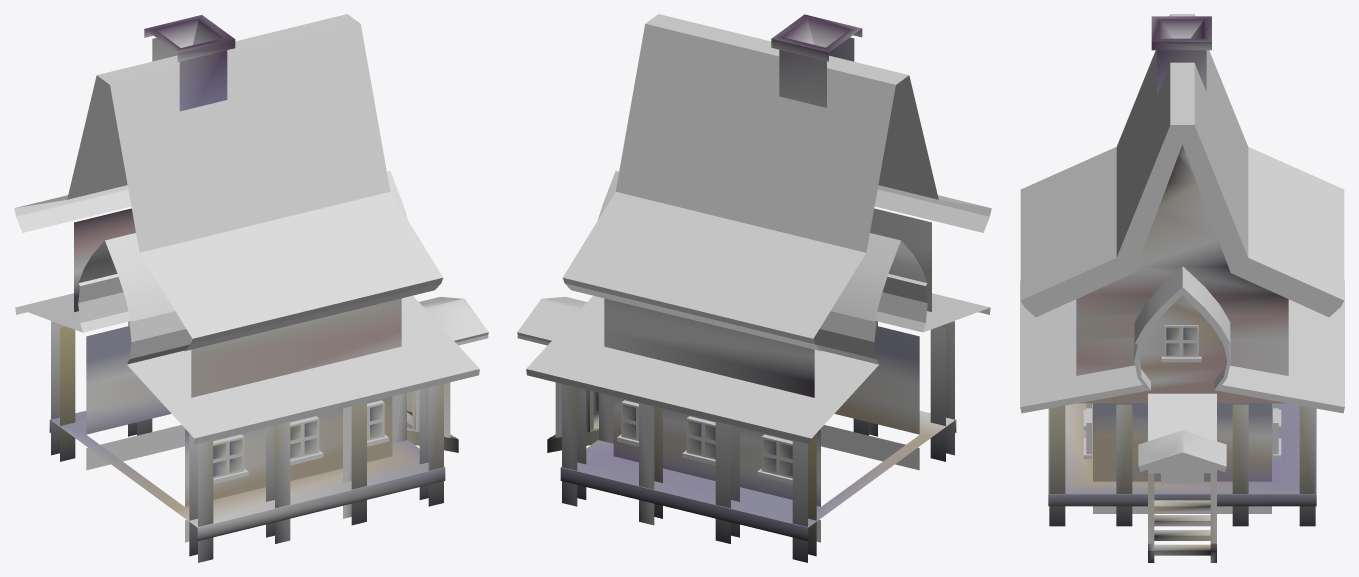
File: ChurchV3.fbx
The picture shows the model from 3 angles, left to right: view 1: azimuth 30°, elevation 25°; view 2: azimuth 150°, elevation 25°; view 3: azimuth 270°, elevation 25°; orthographic projection. The views are drawn at different scales.
Visible parts, largest first — view 1: Plane.002; view 2: Plane.002; view 3: Plane.002.
Part boxes in pixels (x1,y1,x2,y2): Plane.002: (14, 14, 488, 562); Plane.002: (517, 14, 991, 562); Plane.002: (1020, 14, 1344, 562).
Bounding box in the file's own units: 846 × 1044 × 726.
